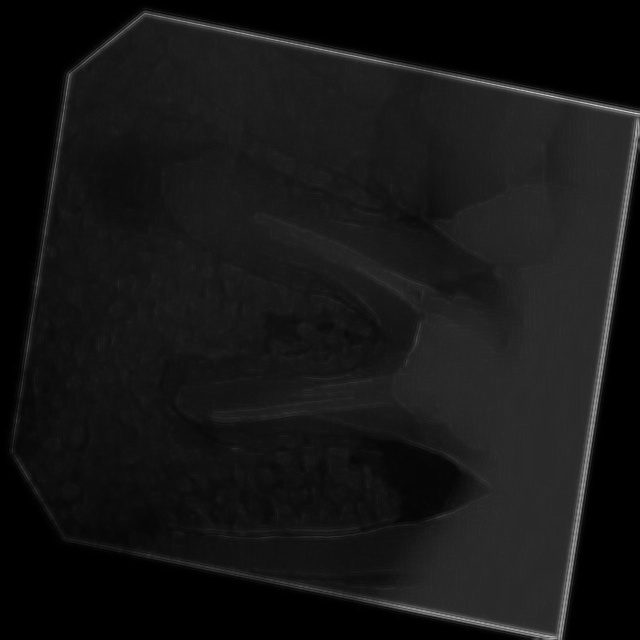Class 1- complete endodontic treatment: (97, 92, 615, 570)
